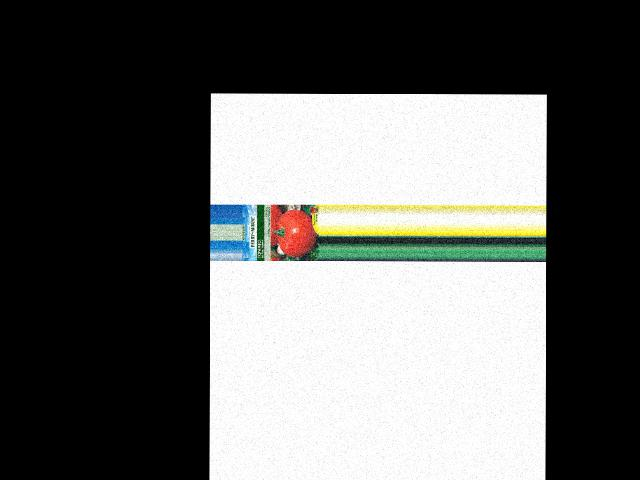tomato: (277, 209, 317, 256)
